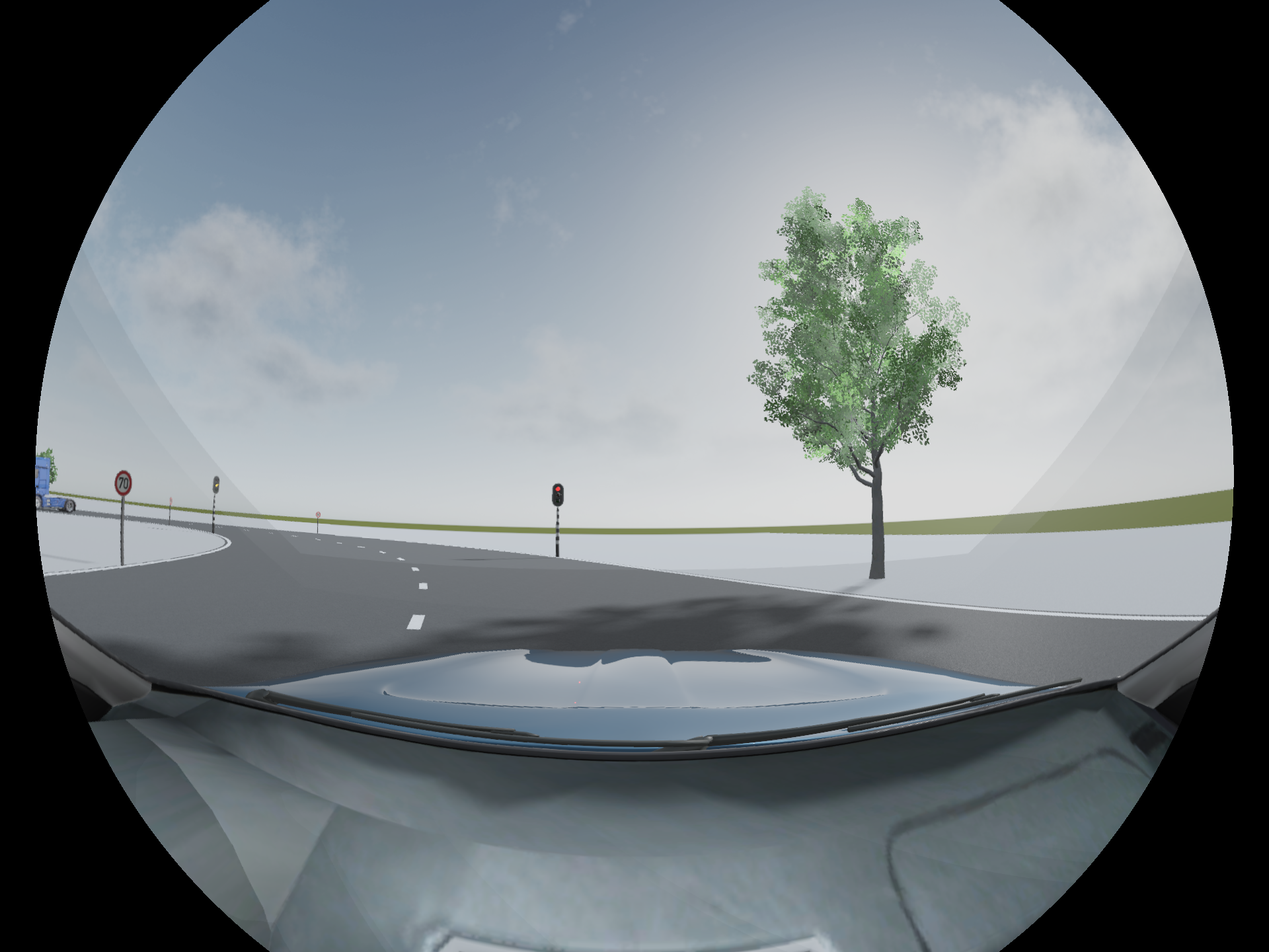Speed Limit 70: (115, 469, 132, 496)
